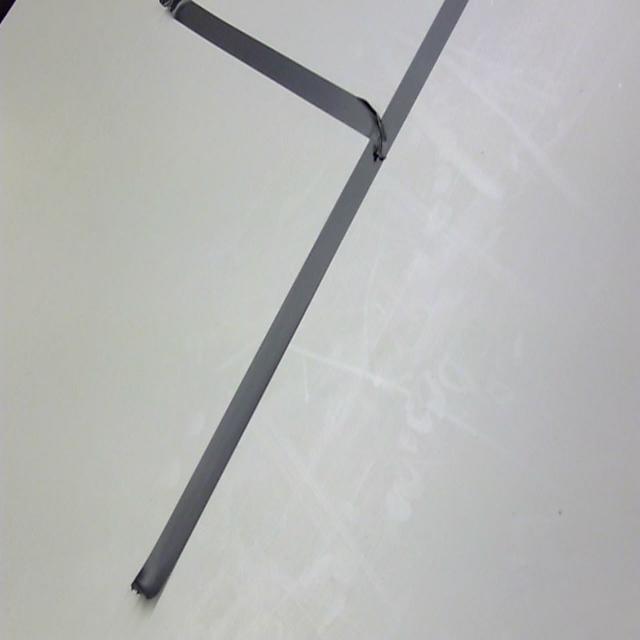tape: (105, 0, 489, 624)
